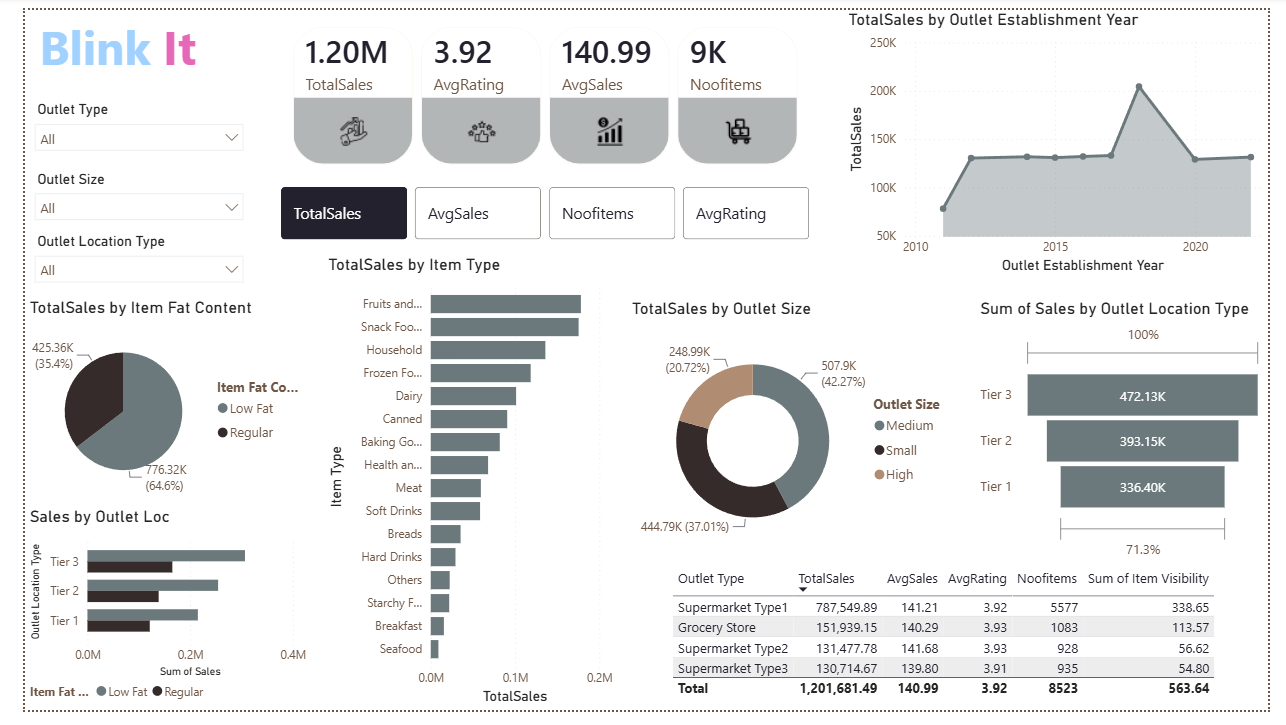

This screenshot's page, from the dashboard's own definition file:
{"tool":"powerbi","page":{"name":"Page 1","canvas":[1280,720],"ordinal":0},"visuals":[{"type":"textbox","box":[9.9,0,225.3,89.3],"z":0},{"type":"slicer","fields":{"Values":["BlinkIT Grocery Data.Outlet Type"]},"box":[0,89.3,235.2,70.8],"z":1000},{"type":"slicer","fields":{"Values":["BlinkIT Grocery Data.Outlet Size"]},"box":[0,160.1,235.2,63.8],"z":2000},{"type":"slicer","fields":{"Values":["BlinkIT Grocery Data.Outlet Location Type"]},"box":[0,223.9,235.2,72.3],"z":3000},{"type":"advancedSlicerVisual","fields":{"Values":["Parameter.Parameter"]},"box":[259.3,176.7,556,64.5],"z":4000},{"type":"pieChart","fields":{"Y":["BlinkIT Grocery Data.TotalSales"],"Category":["BlinkIT Grocery Data.Item Fat Content"]},"box":[0,296.1,294.7,215.4],"z":5000},{"type":"clusteredBarChart","fields":{"Y":["BlinkIT Grocery Data.TotalSales"],"Category":["BlinkIT Grocery Data.Item Type"]},"box":[307,251.5,303.1,468.3],"z":6000},{"type":"tableEx","fields":{"Values":["BlinkIT Grocery Data.Outlet Type","BlinkIT Grocery Data.TotalSales","BlinkIT Grocery Data.AvgSales","BlinkIT Grocery Data.AvgRating","BlinkIT Grocery Data.Noofitems","Sum(BlinkIT Grocery Data.Item Visibility)"]},"box":[661.8,570.2,617.9,149.6],"z":7000},{"type":"cardVisual","fields":{"Data":["BlinkIT Grocery Data.TotalSales","BlinkIT Grocery Data.AvgRating","BlinkIT Grocery Data.AvgSales","BlinkIT Grocery Data.Noofitems"]},"box":[259.3,0,556,176.7],"z":8000},{"type":"donutChart","fields":{"Y":["BlinkIT Grocery Data.TotalSales"],"Category":["BlinkIT Grocery Data.Outlet Size"]},"box":[620.5,296.7,344.4,273.5],"z":9000},{"type":"funnel","fields":{"Category":["BlinkIT Grocery Data.Outlet Location Type"],"Y":["Sum(BlinkIT Grocery Data.Sales)"]},"box":[979.1,296.7,300.6,273.5],"z":10000},{"type":"clusteredBarChart","title":"Sales by Outlet Loc","fields":{"Category":["BlinkIT Grocery Data.Outlet Location Type"],"Y":["Sum(BlinkIT Grocery Data.Sales)"],"Series":["BlinkIT Grocery Data.Item Fat Content"]},"box":[0,511.5,294.7,208.3],"z":11000},{"type":"lineChart","fields":{"Y":["BlinkIT Grocery Data.TotalSales"],"Category":["BlinkIT Grocery Data.Outlet Establishment Year"]},"box":[842.3,0,437.3,276.1],"z":12000}]}

Visuals, with their boxes in screenshot pixels (x1, y1, x2, y2), scaled from the page's 1280x720 canvas onto the 1286x725 screenshot:
textbox: pyautogui.locateOnScreen(10, 0, 236, 90)
slicer - BlinkIT Grocery Data.Outlet Type: pyautogui.locateOnScreen(0, 90, 236, 161)
slicer - BlinkIT Grocery Data.Outlet Size: pyautogui.locateOnScreen(0, 161, 236, 225)
slicer - BlinkIT Grocery Data.Outlet Location Type: pyautogui.locateOnScreen(0, 225, 236, 298)
advancedSlicerVisual - Parameter.Parameter: pyautogui.locateOnScreen(261, 178, 819, 243)
pieChart - BlinkIT Grocery Data.TotalSales x BlinkIT Grocery Data.Item Fat Content: pyautogui.locateOnScreen(0, 298, 296, 515)
clusteredBarChart - BlinkIT Grocery Data.TotalSales x BlinkIT Grocery Data.Item Type: pyautogui.locateOnScreen(308, 253, 613, 724)
tableEx - BlinkIT Grocery Data.Outlet Type x BlinkIT Grocery Data.TotalSales: pyautogui.locateOnScreen(665, 574, 1285, 724)
cardVisual - BlinkIT Grocery Data.TotalSales x BlinkIT Grocery Data.AvgRating: pyautogui.locateOnScreen(261, 0, 819, 178)
donutChart - BlinkIT Grocery Data.TotalSales x BlinkIT Grocery Data.Outlet Size: pyautogui.locateOnScreen(623, 299, 969, 574)
funnel - BlinkIT Grocery Data.Outlet Location Type x Sum(BlinkIT Grocery Data.Sales): pyautogui.locateOnScreen(984, 299, 1285, 574)
"Sales by Outlet Loc" clusteredBarChart: pyautogui.locateOnScreen(0, 515, 296, 724)
lineChart - BlinkIT Grocery Data.TotalSales x BlinkIT Grocery Data.Outlet Establishment Year: pyautogui.locateOnScreen(846, 0, 1285, 278)
